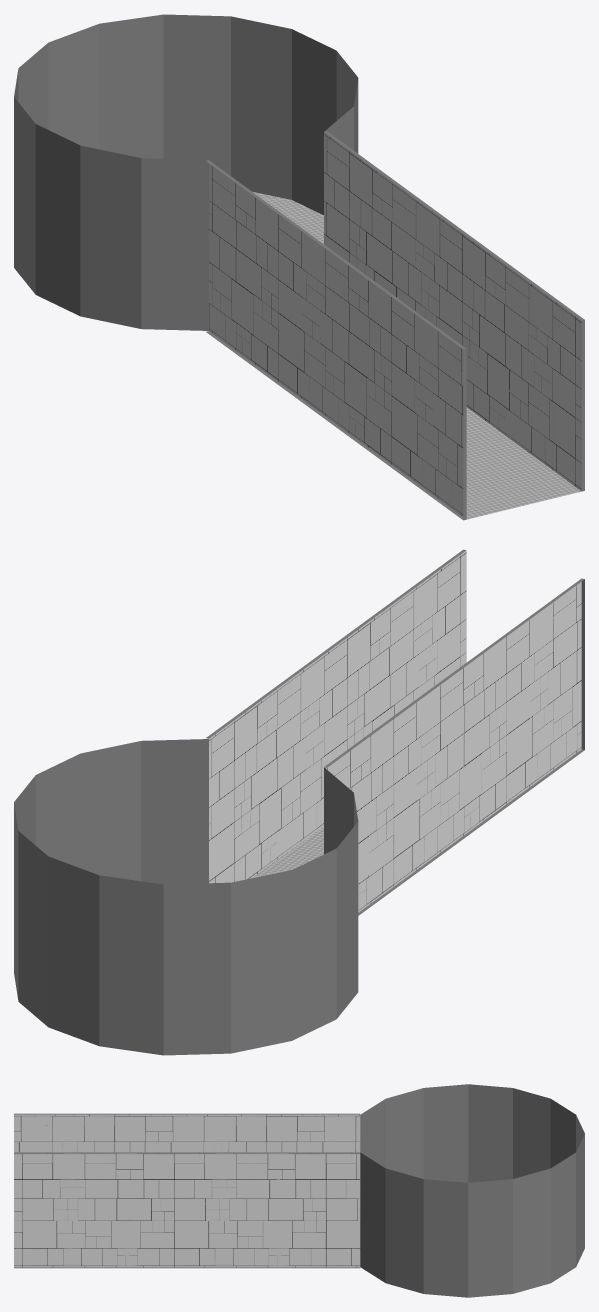
The model's file is RnD.fbx.
3 renders of one model, top to bottom at view 1: azimuth 30°, elevation 25°; view 2: azimuth 150°, elevation 25°; view 3: azimuth 270°, elevation 25°, orthographic. The views are drawn at different scales.
Visible parts, largest first — view 1: Cube.047; view 2: Cube.047; view 3: Cube.047.
Part boxes in pixels (x1,y1,x2,y2): Cube.047: (14,14,584,520); Cube.047: (14,549,584,1055); Cube.047: (14,1084,584,1297).
Bounding box in the file's own units: 7948 × 4317 × 19442.
